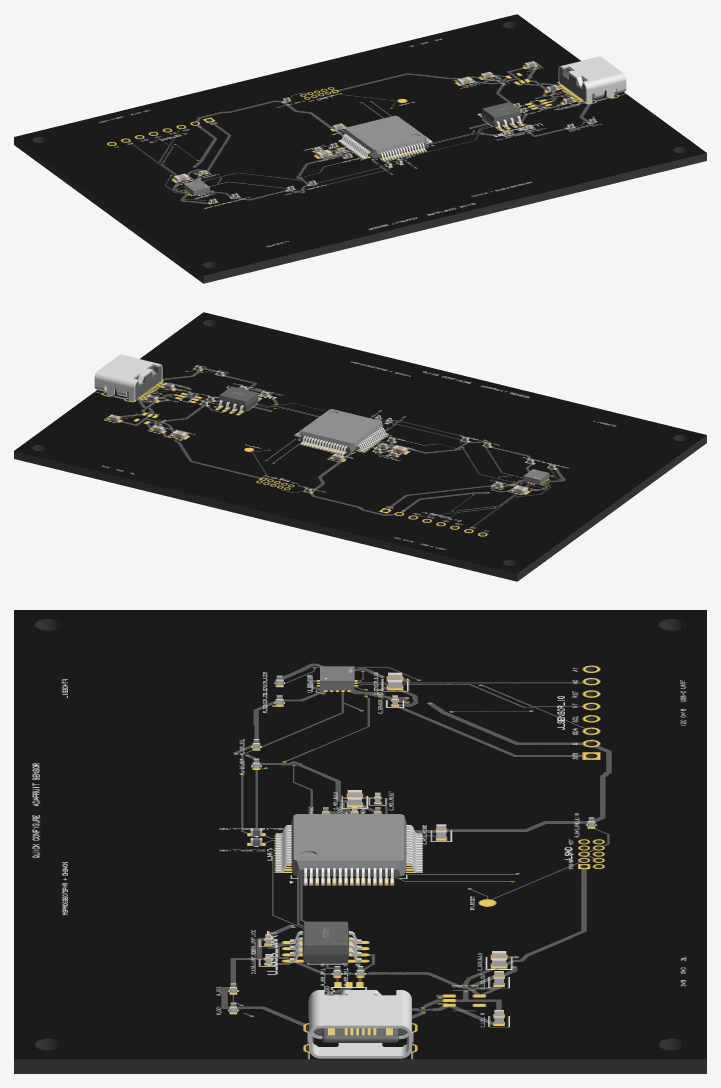
3 renders of one model, top to bottom at view 1: azimuth 30°, elevation 25°; view 2: azimuth 150°, elevation 25°; view 3: azimuth 270°, elevation 25°, orthographic. The views are drawn at different scales.
Parts seen in each view (by area): view 1: Box0, U_MAIN, J_USB, U_USB_UART; view 2: Box0, U_MAIN, J_USB, U_USB_UART; view 3: Box0, U_MAIN, J_USB, U_USB_UART, U_SENSOR.
Boxes of the visible parts, <box> form: Box0: <box>14,14,706,283</box>; U_MAIN: <box>338,115,432,161</box>; J_USB: <box>558,56,626,103</box>; U_USB_UART: <box>480,102,522,129</box>; Box0: <box>14,312,706,581</box>; U_MAIN: <box>294,409,388,454</box>; J_USB: <box>94,354,162,401</box>; U_USB_UART: <box>217,386,259,413</box>; Box0: <box>14,610,706,1073</box>; U_MAIN: <box>275,814,422,885</box>; J_USB: <box>309,990,411,1058</box>; U_USB_UART: <box>290,921,361,963</box>; U_SENSOR: <box>320,666,354,690</box>.
Bounding box in the file's own units: 92.04 × 4.65 × 60.
19 materials, 2 textured.
